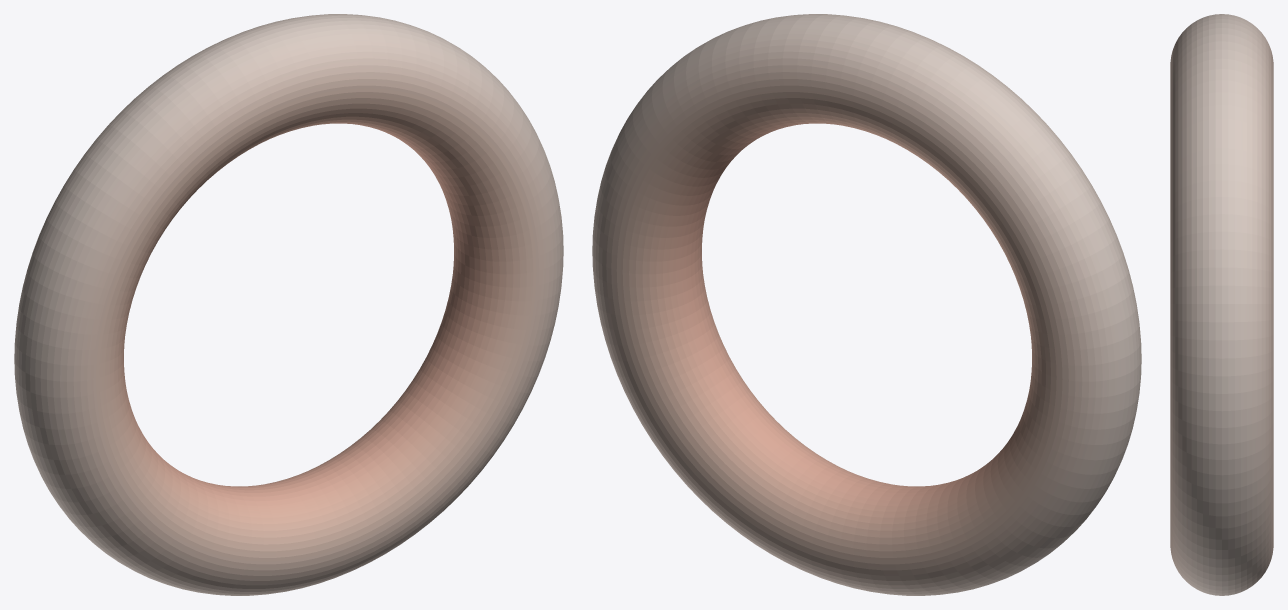
3 views of the same model, side by side, from view 1: azimuth 30°, elevation 25°; view 2: azimuth 150°, elevation 25°; view 3: azimuth 270°, elevation 25° (orthographic). The views are drawn at different scales.
Visible parts, largest first — view 1: world; view 2: world; view 3: world.
Part boxes in pixels (x1,y1,x2,y2): world: [14, 14, 563, 595]; world: [592, 14, 1141, 595]; world: [1170, 14, 1273, 595].
Size of the model in its own units: 30.8 by 30.8 by 5.46.
